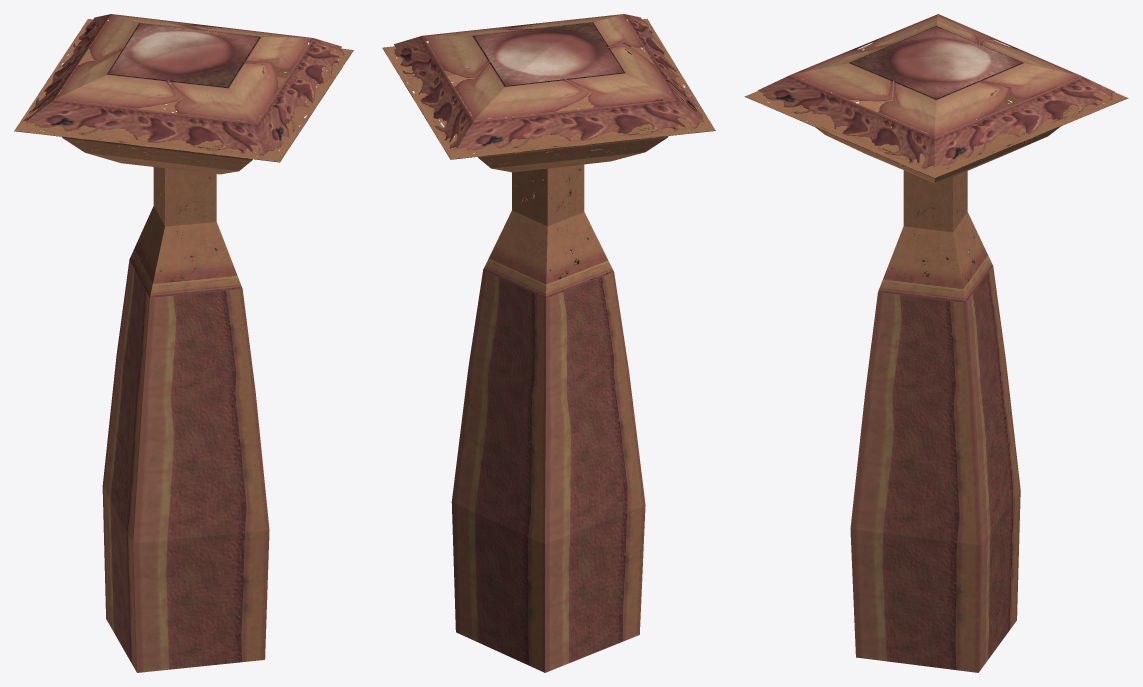
The model's file is balance-plat-lod2.glb.
3 renders of one model, left to right at view 1: azimuth 30°, elevation 25°; view 2: azimuth 150°, elevation 25°; view 3: azimuth 270°, elevation 25°, orthographic.
Visible parts, largest first — view 1: balance-plat-lod2; view 2: balance-plat-lod2; view 3: balance-plat-lod2.
Part boxes in pixels (bbox=[...]): balance-plat-lod2: bbox=[14, 14, 353, 672]; balance-plat-lod2: bbox=[382, 14, 715, 672]; balance-plat-lod2: bbox=[744, 14, 1128, 672].
Size of the model in its own units: 5.31 by 8.87 by 5.31.
5 materials, 5 textured.
